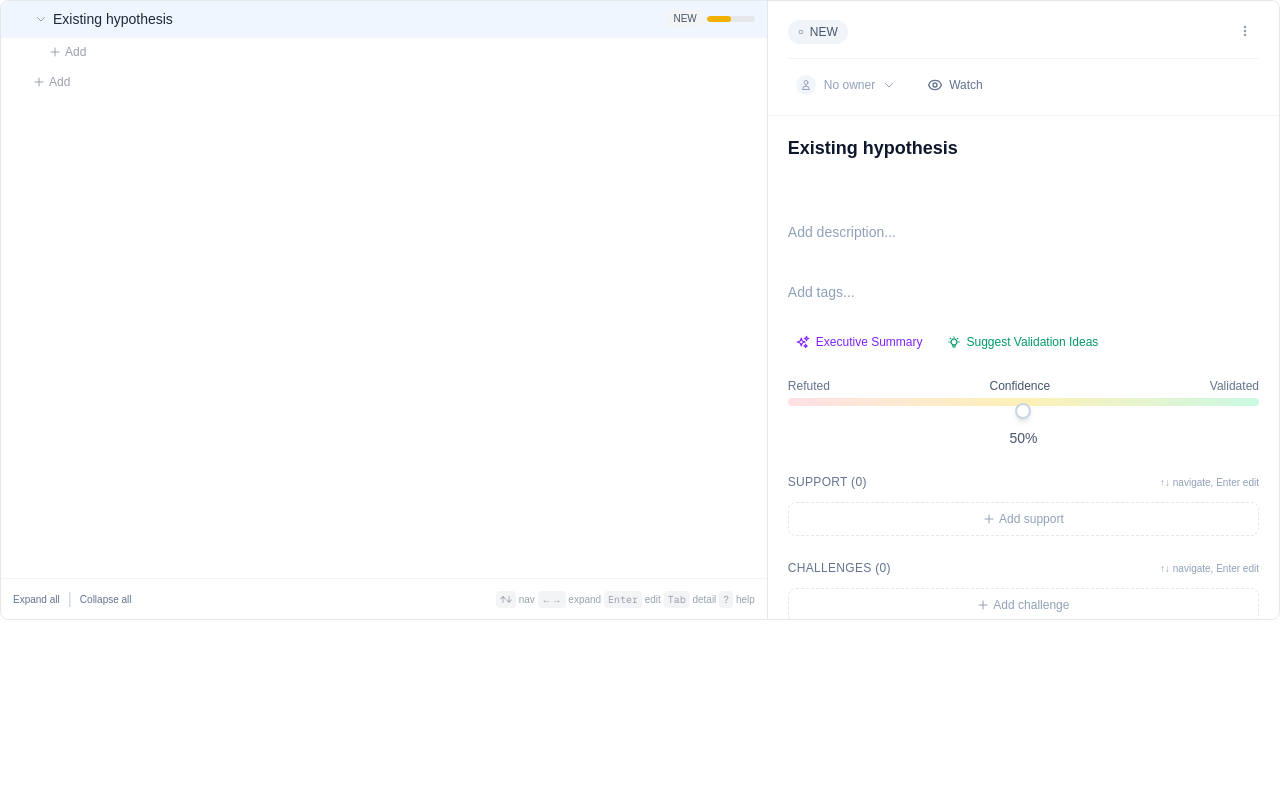
Test: SplitView › Selection Flow › shows inline editing when clicking +Add
Expected: the text box showing "Existing hypothesis" is shown, top-left (788, 136), bottom-right (1259, 186)
Click the 2nd text "Add" at (52, 82), box top-left (33, 74), bottom-right (70, 90)
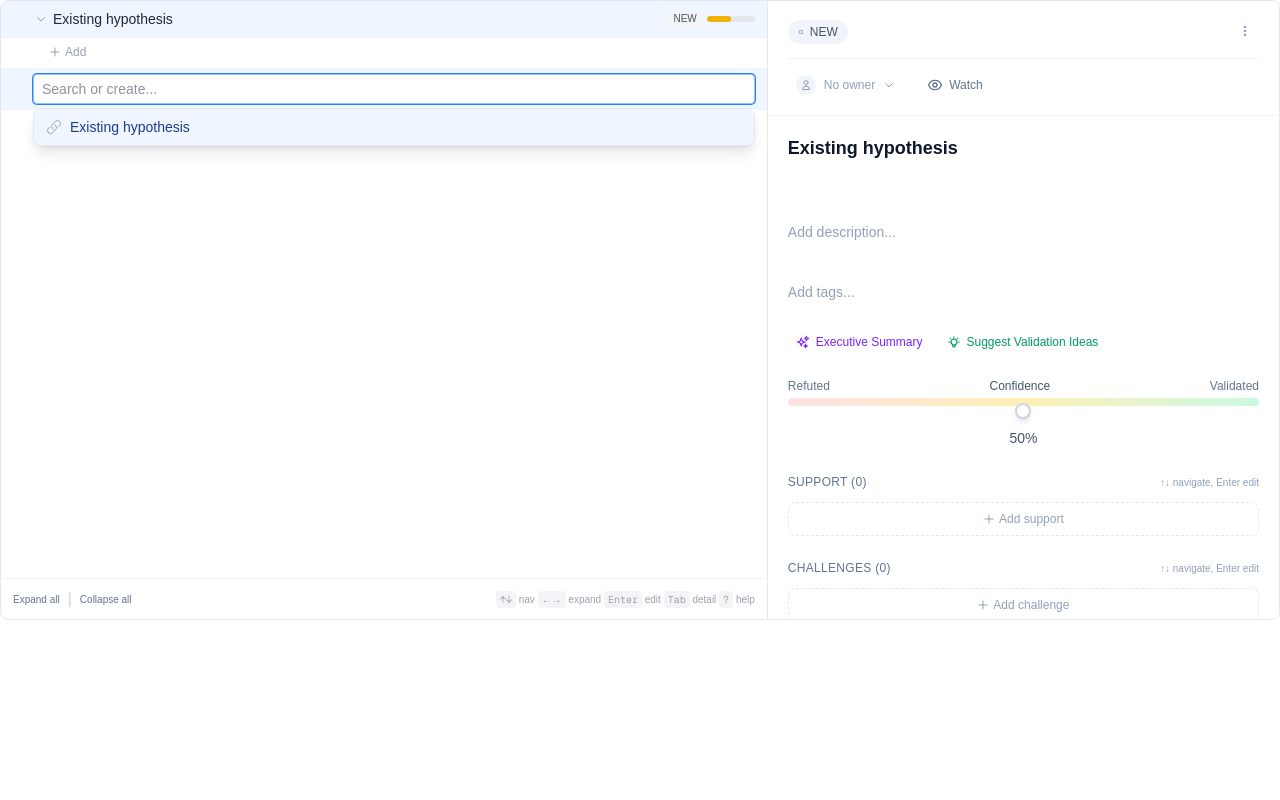
Expected: the field with placeholder "Search or create..." is shown, top-left (33, 74), bottom-right (755, 104)
